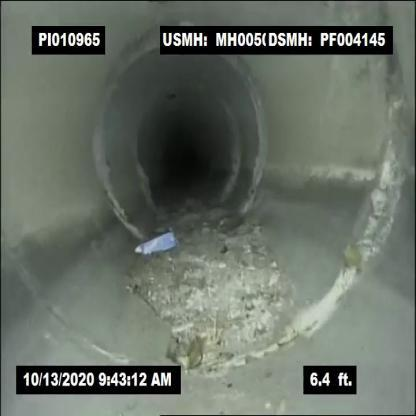jntoffs: (86, 57, 148, 219)
obsc: (119, 219, 189, 268)
